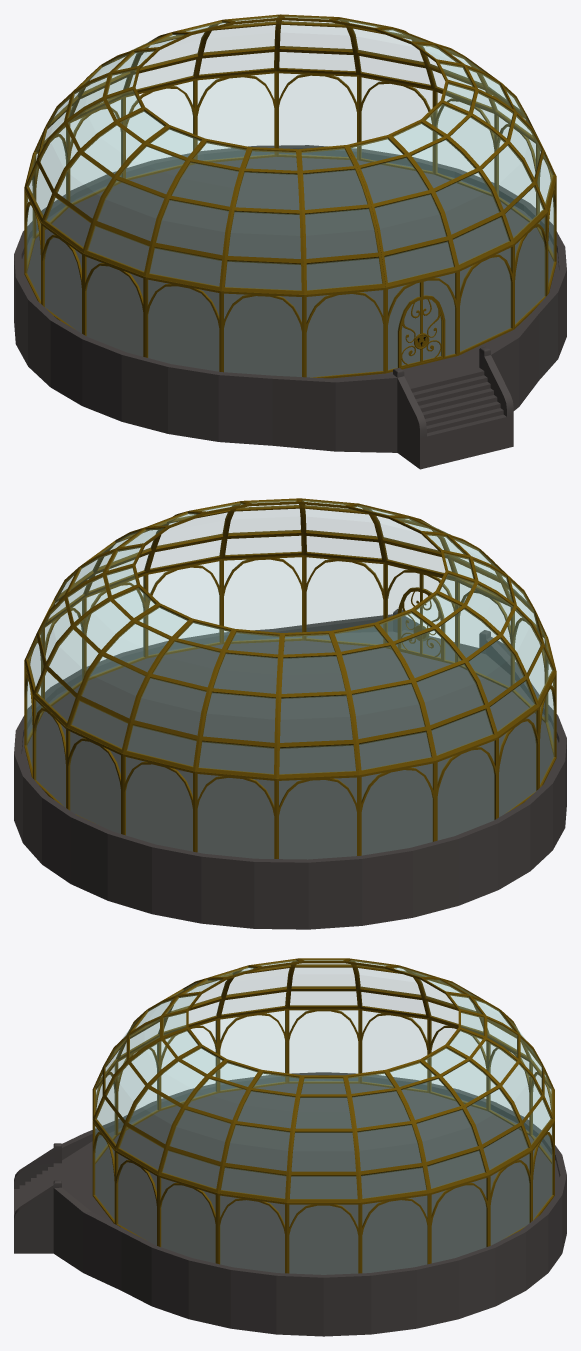
The model's file is Greenhouse.fbx.
3 renders of one model, top to bottom at view 1: azimuth 30°, elevation 25°; view 2: azimuth 150°, elevation 25°; view 3: azimuth 270°, elevation 25°, orthographic. The views are drawn at different scales.
Parts seen in each view (by area): view 1: Glass, Base, RoofPanels, wallpanels, Stairs, L_DoorGlass, R_DoorGlass, Right_Door; view 2: Glass, Base, RoofPanels, wallpanels, L_DoorGlass, Right_Door, R_DoorGlass; view 3: Base, Glass, RoofPanels, wallpanels, Stairs.
Part boxes in pixels (bbox=[...]): Glass: bbox=[26, 16, 554, 377]; Base: bbox=[14, 145, 566, 469]; RoofPanels: bbox=[24, 14, 556, 294]; wallpanels: bbox=[24, 71, 556, 378]; Stairs: bbox=[410, 371, 506, 436]; L_DoorGlass: bbox=[423, 299, 441, 360]; R_DoorGlass: bbox=[402, 301, 419, 365]; Right_Door: bbox=[414, 298, 442, 362]; Glass: bbox=[26, 500, 554, 859]; Base: bbox=[14, 609, 566, 929]; RoofPanels: bbox=[24, 498, 556, 778]; wallpanels: bbox=[24, 555, 556, 858]; L_DoorGlass: bbox=[401, 592, 419, 652]; Right_Door: bbox=[399, 590, 429, 654]; R_DoorGlass: bbox=[422, 593, 440, 657]; Base: bbox=[14, 1072, 566, 1336]; Glass: bbox=[95, 960, 552, 1274]; RoofPanels: bbox=[92, 958, 554, 1202]; wallpanels: bbox=[92, 1008, 554, 1273]; Stairs: bbox=[14, 1167, 53, 1215].
Bounding box in the file's own units: 27.59 × 13.48 × 31.37.
